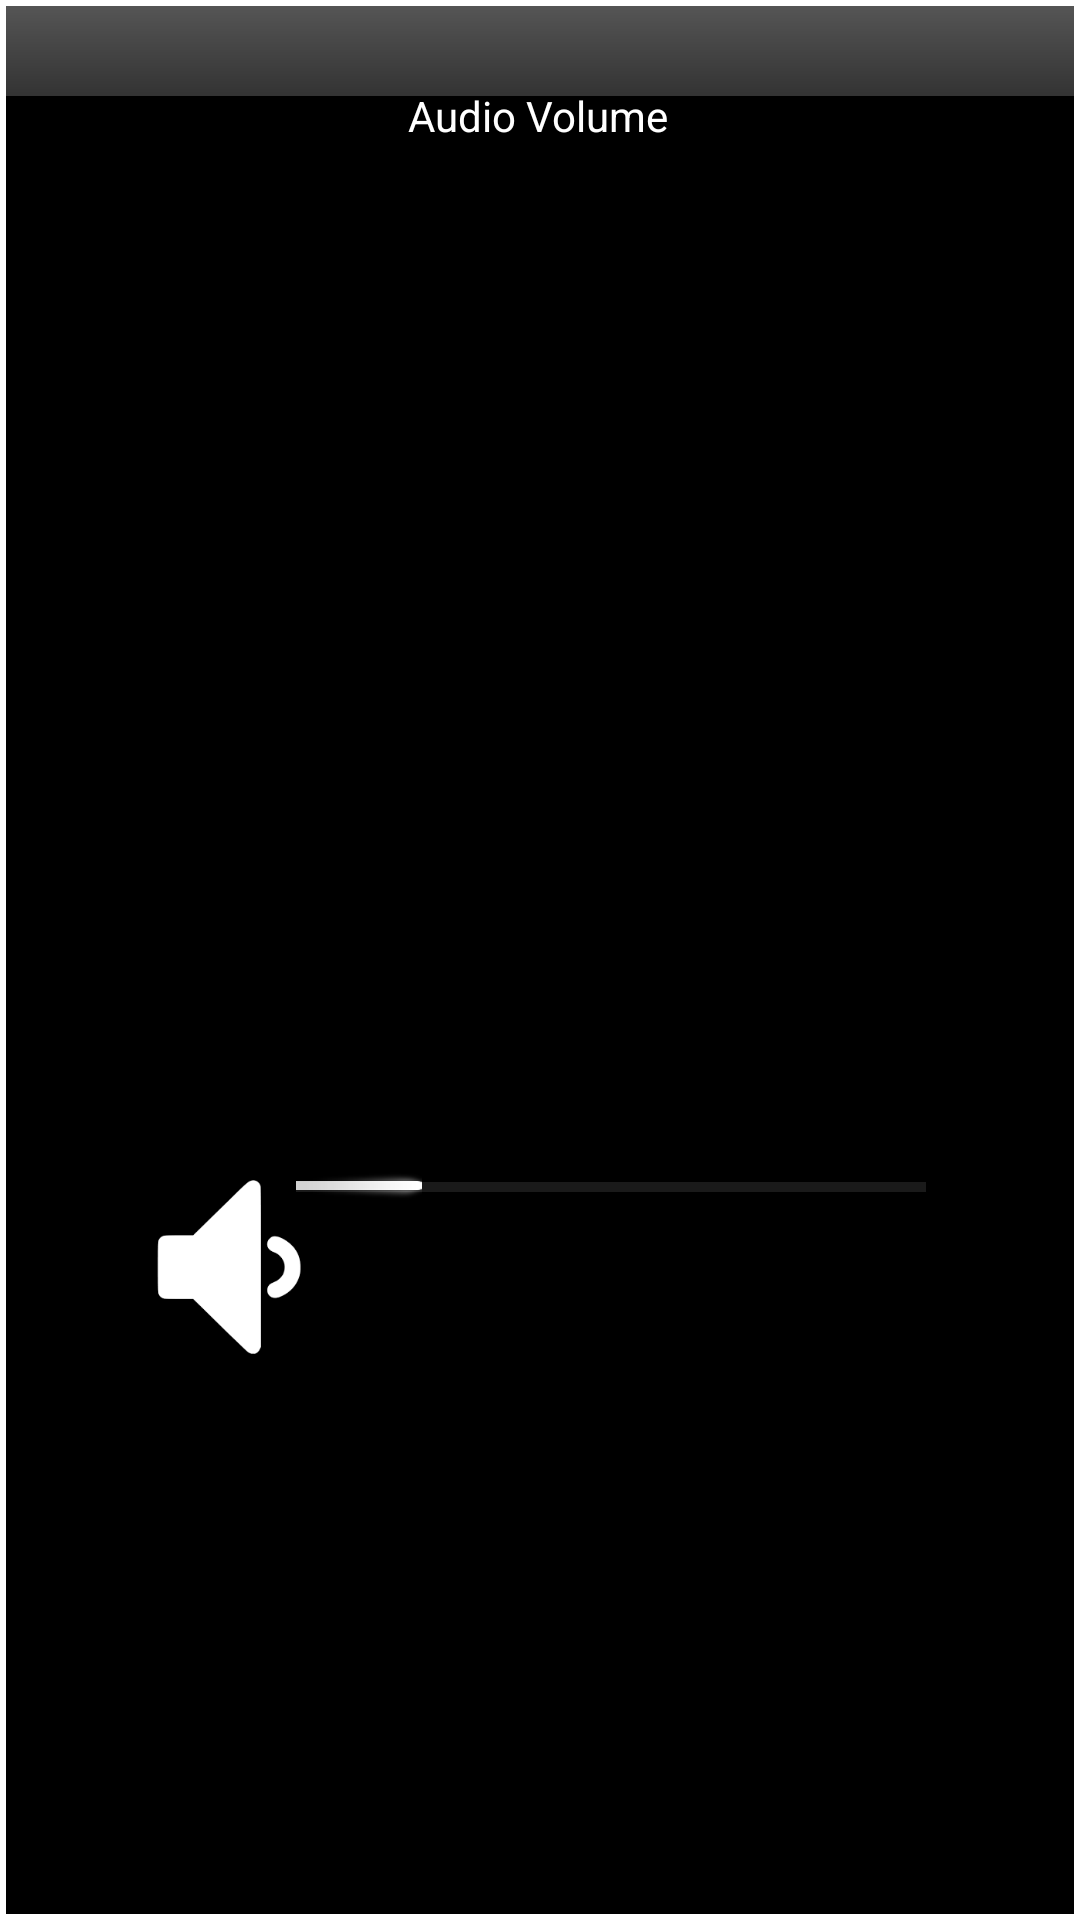

Named icons in this screenshot (1080 × 1920) and their bounding boxes, (x1=x1, y1=y1, x2=x2, y2=y2):
audio unmute: (x1=157, y1=1180, x2=301, y2=1354)
